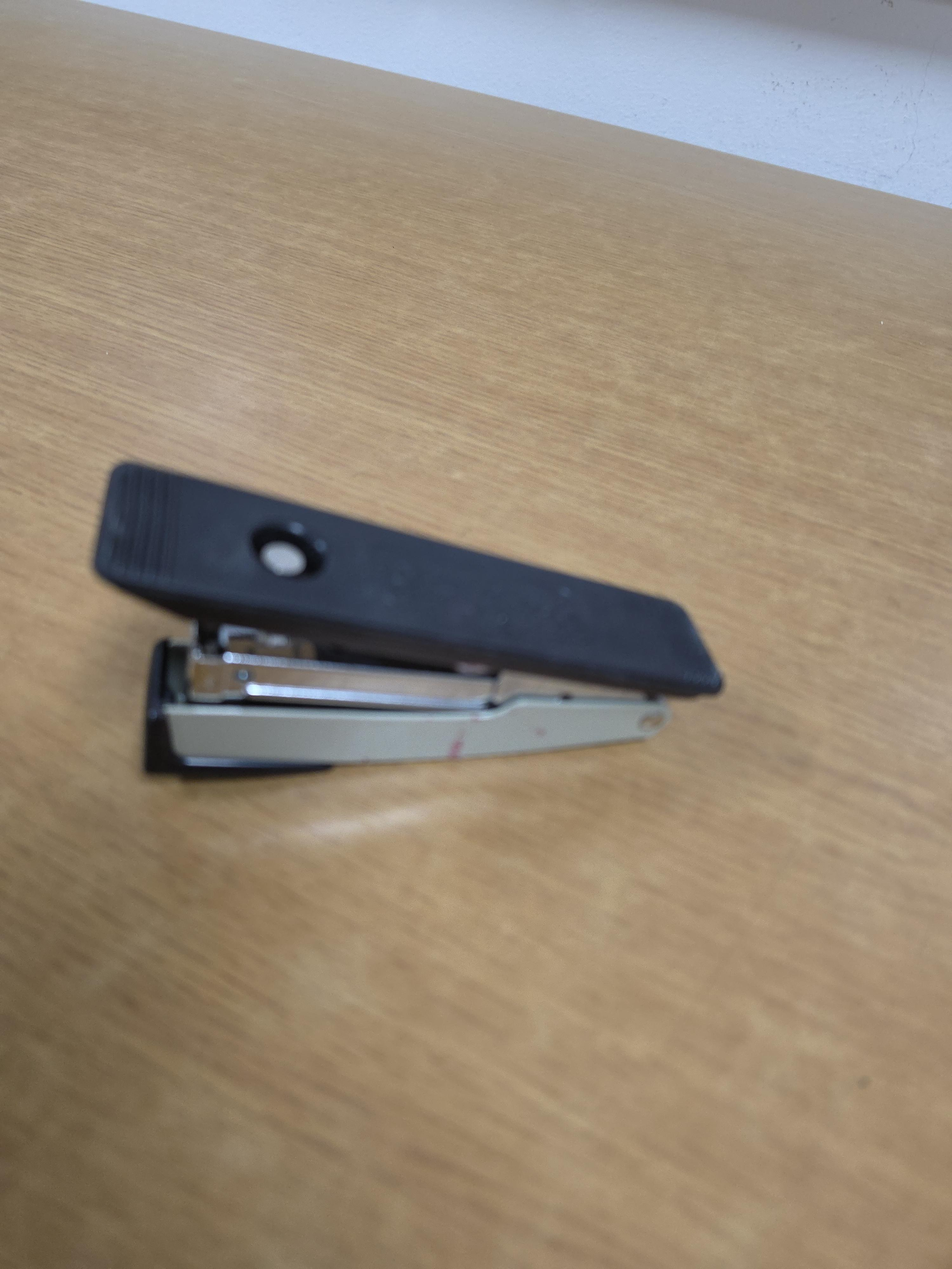stapler: (93, 462, 724, 774)
